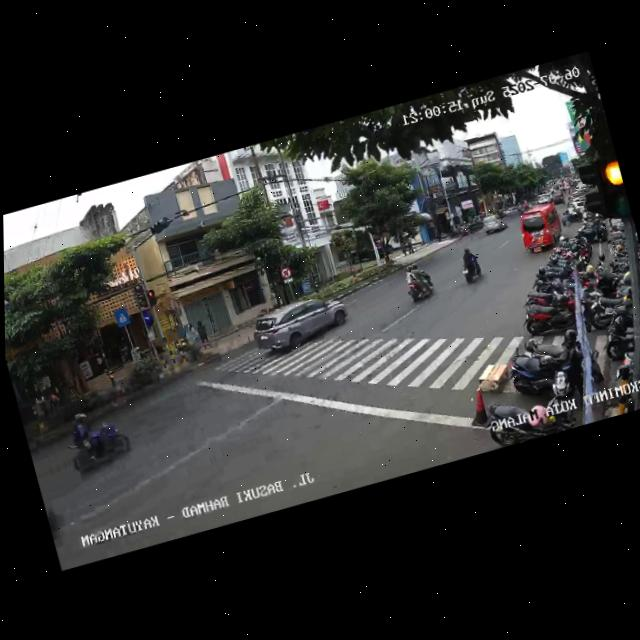car: (252, 289, 352, 362), (515, 200, 567, 256), (479, 213, 507, 237)
motorcycle: (60, 407, 137, 480), (400, 259, 438, 305), (454, 244, 487, 288)
person: (195, 318, 211, 350)
